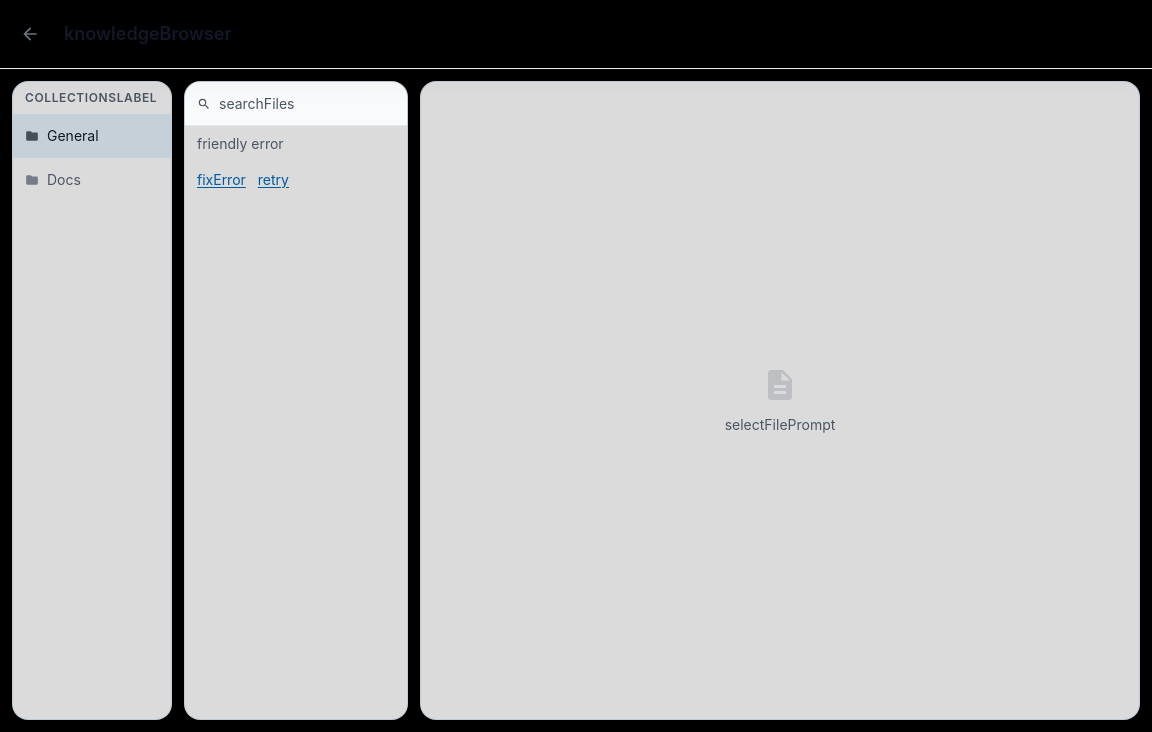
it: KnowledgeBrowser request races › shows a user-facing source error and retries
Expected: the text "friendly error" is shown, [197,135,284,152]
Click the button "retry".
click(273, 180)  # box [258,158,289,202]
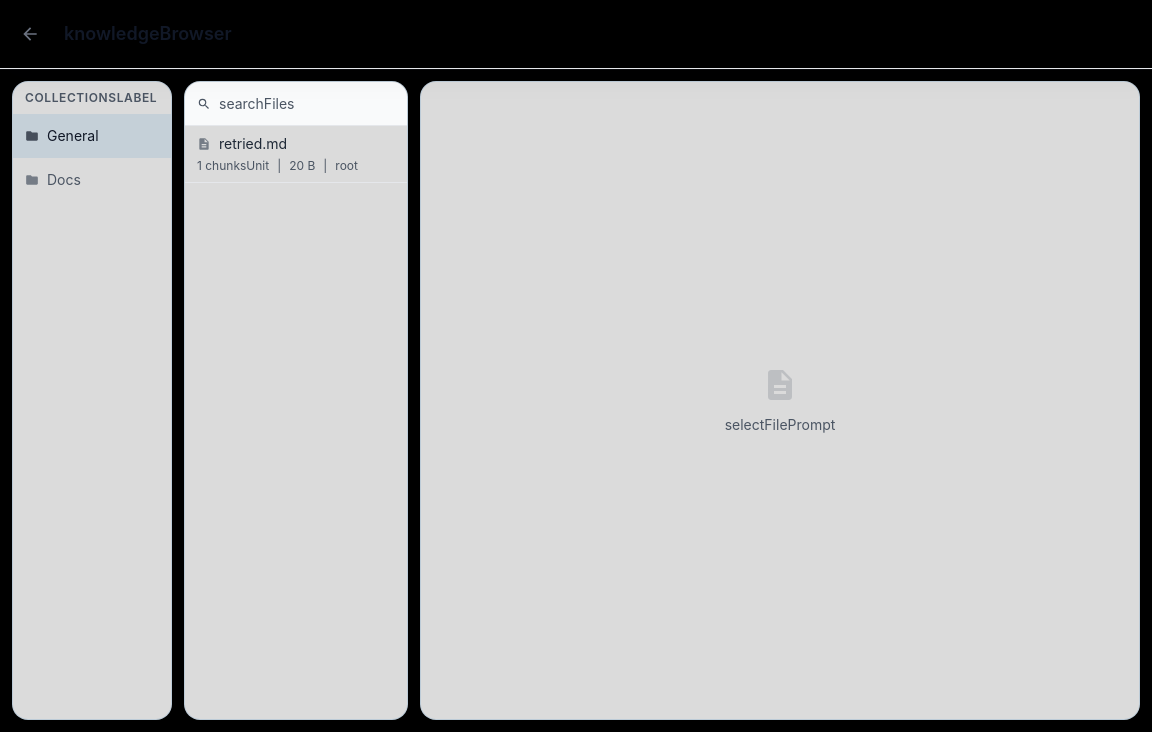
Now the text "retried.md" is shown, box [219,134,287,154]
